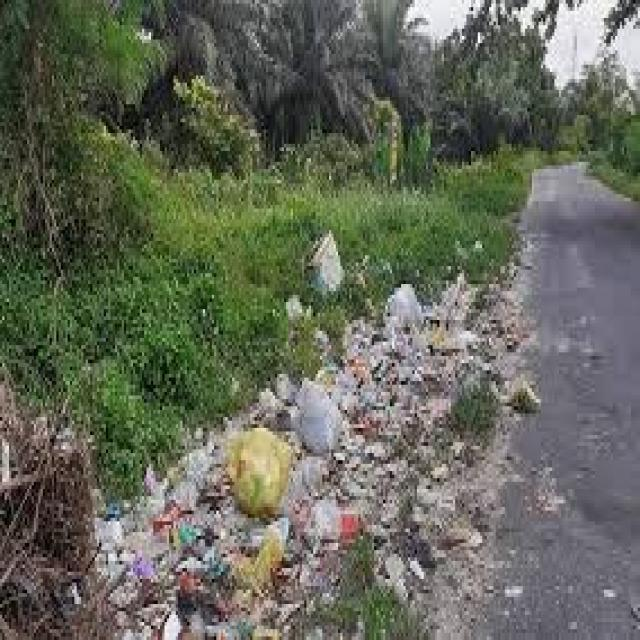trash: (93, 304, 556, 640)
